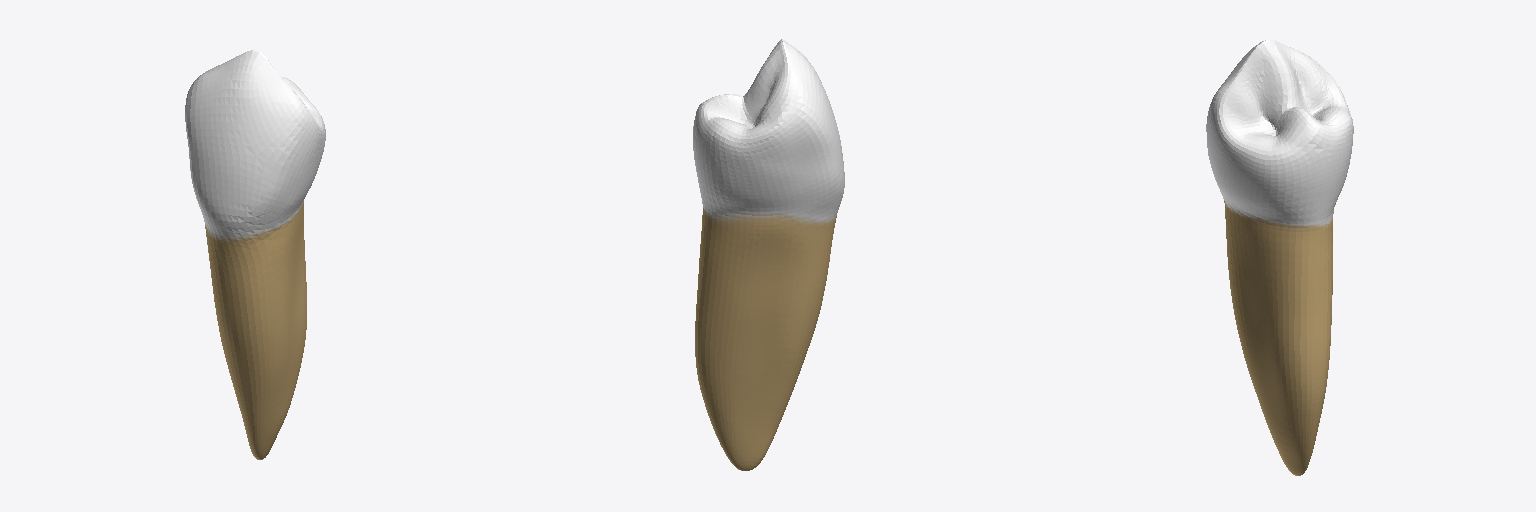
The picture shows the model from 3 angles: view 1: azimuth 30°, elevation 25°; view 2: azimuth 150°, elevation 25°; view 3: azimuth 270°, elevation 25°; orthographic projection.
Visible parts, largest first — view 1: outer; view 2: outer; view 3: outer.
Boxes of the visible parts, x1=… form: outer: x1=185, y1=50, x2=325, y2=459; outer: x1=693, y1=39, x2=844, y2=470; outer: x1=1206, y1=39, x2=1353, y2=475.
Size of the model in its own units: 2.72 by 8.47 by 2.66.
Materials: 2 (1 with a texture image).